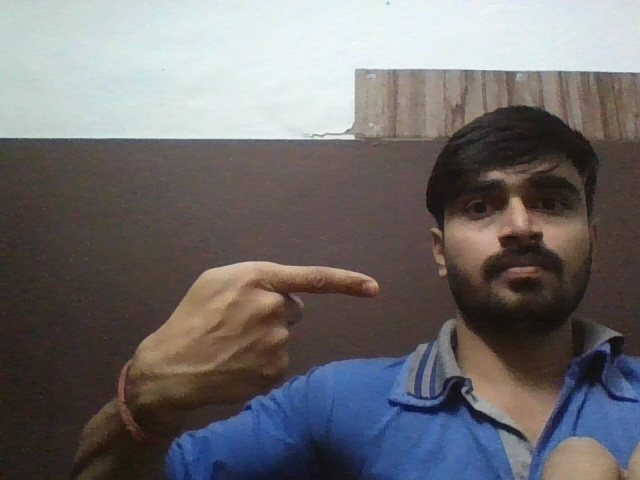G: (151, 262, 386, 391)
